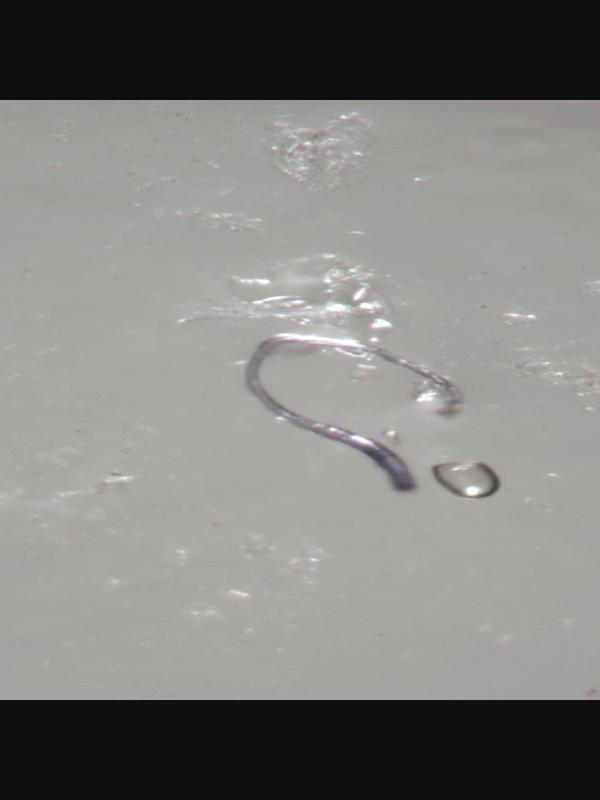microplastic: (171, 252, 496, 498)
